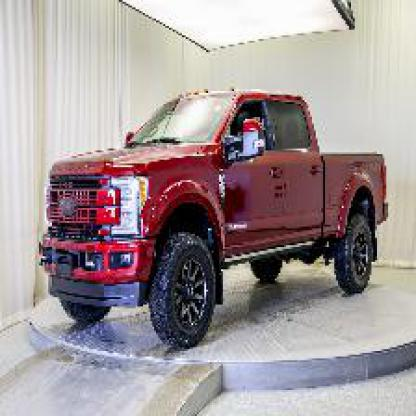not_emergency: (24, 78, 405, 336)
